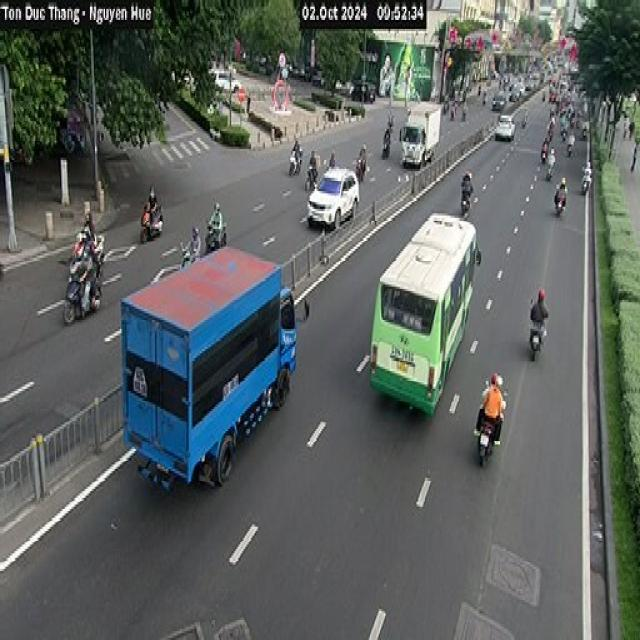bus: (367, 210, 479, 423)
car: (305, 170, 365, 226), (496, 116, 515, 148), (492, 87, 507, 110)
motorcycle: (63, 278, 103, 324), (67, 227, 108, 260), (476, 420, 494, 470), (139, 206, 165, 239), (528, 320, 544, 363), (178, 241, 202, 266), (205, 223, 229, 247), (460, 190, 472, 220), (289, 147, 300, 173), (307, 161, 318, 187), (555, 191, 565, 218), (546, 161, 553, 187), (381, 144, 392, 160)
person: (488, 369, 503, 433), (80, 246, 92, 308), (484, 369, 499, 412), (535, 290, 547, 340), (212, 202, 223, 248), (148, 188, 160, 228), (85, 209, 98, 243), (191, 223, 202, 259), (464, 168, 473, 206), (292, 136, 302, 164), (310, 150, 318, 171), (329, 151, 338, 166), (361, 144, 366, 166)
truck: (119, 240, 297, 504), (402, 97, 442, 165)
